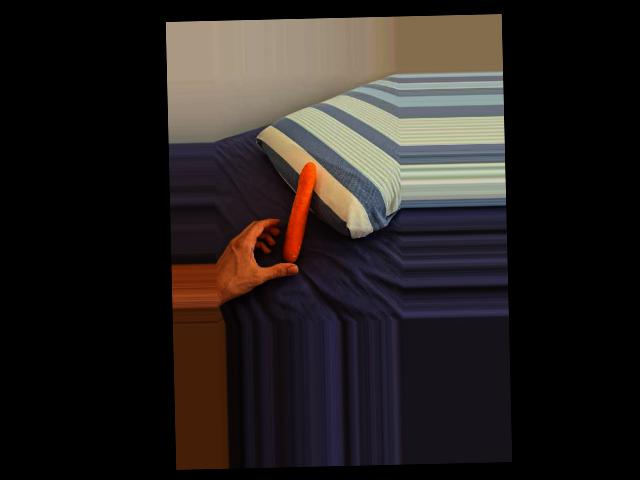carrot: (280, 163, 318, 264)
